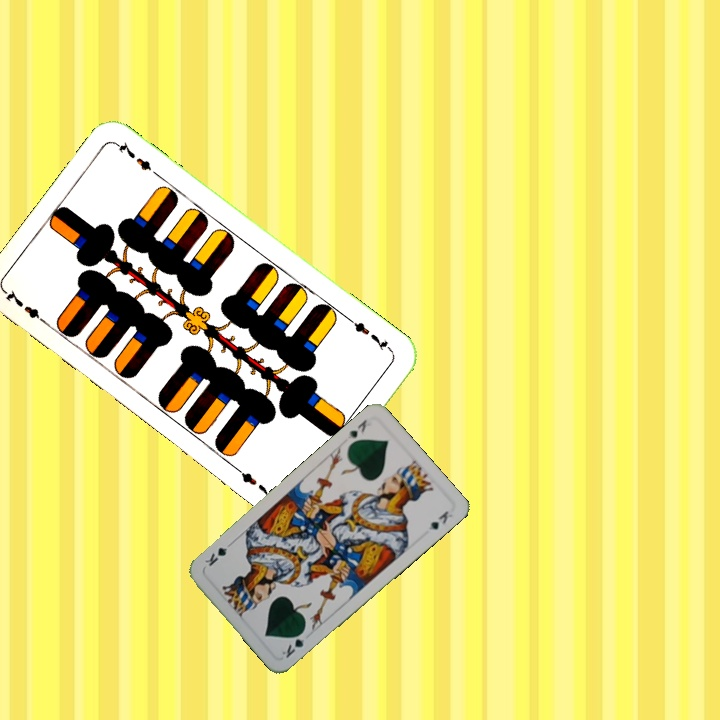E7: (1, 286, 51, 329), (344, 314, 395, 355)
GK: (278, 626, 308, 661), (343, 415, 370, 442)
